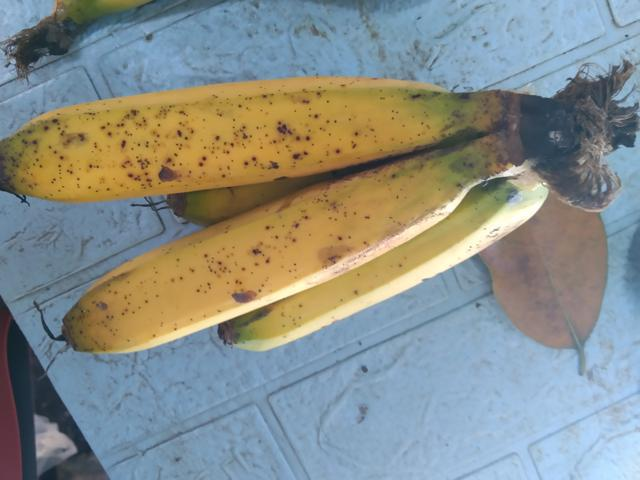ripe: (24, 176, 440, 382), (7, 53, 487, 197)
